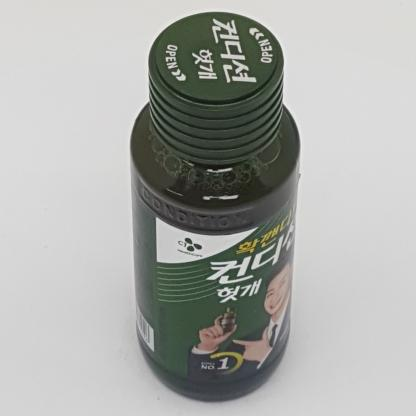CJ-----100ML: (129, 12, 301, 402)
